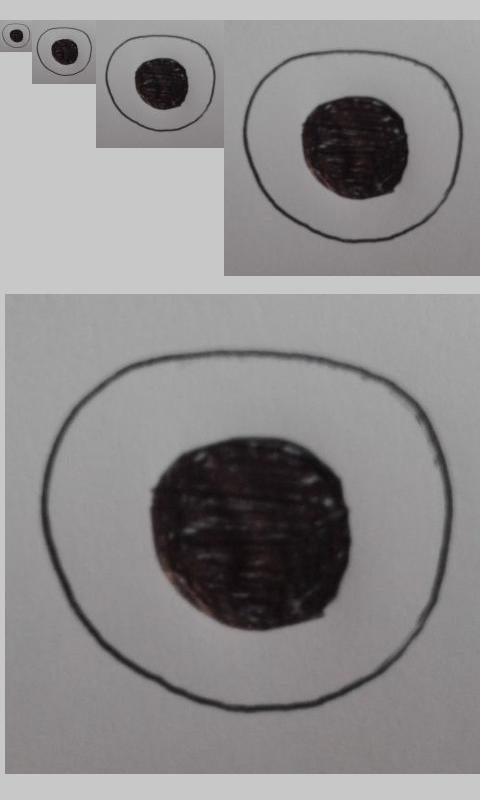radio_button: (36, 345, 457, 719), (242, 48, 465, 244), (104, 33, 217, 134), (35, 26, 93, 77), (1, 22, 31, 49)
